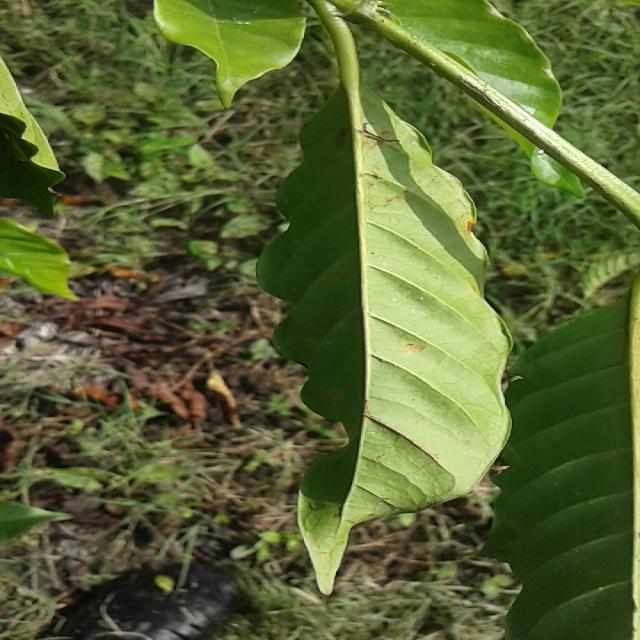Enfermedad-Roya: (257, 8, 512, 598)
